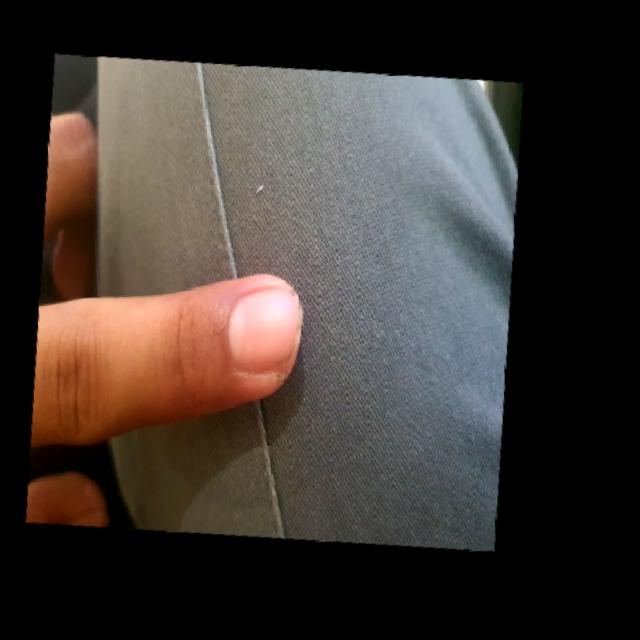Nail: (229, 287, 300, 372)
